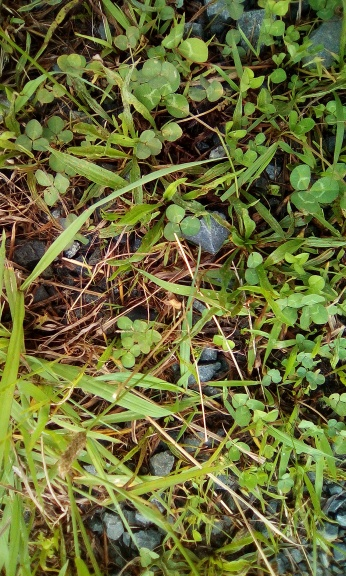4leaf: (112, 337, 141, 369)
